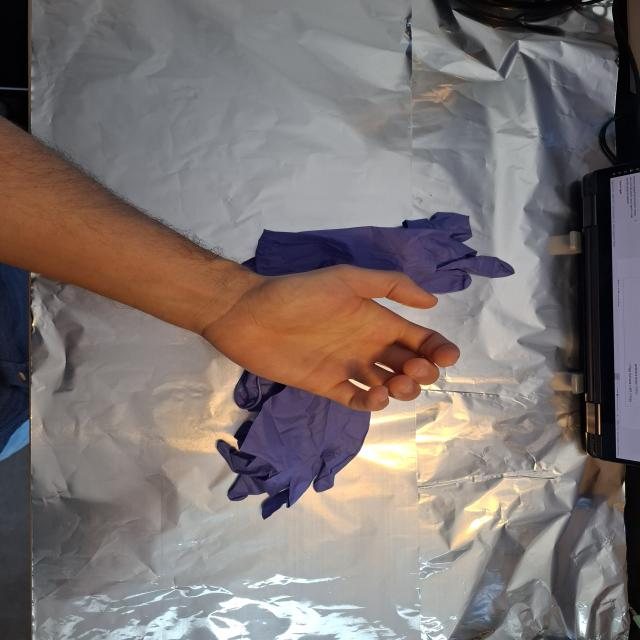glove_off: (198, 261, 462, 413)
